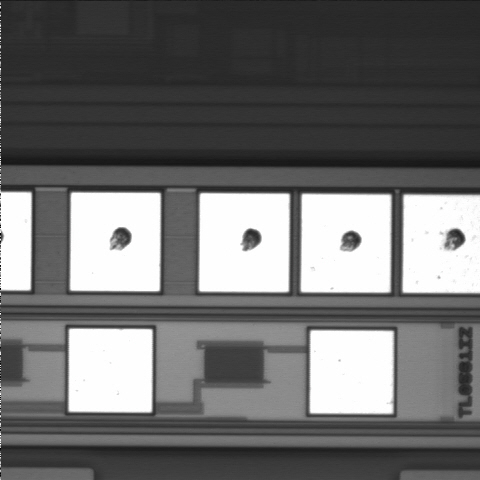pad: (199, 193, 289, 292), (70, 193, 160, 291), (301, 194, 391, 292), (310, 330, 393, 414), (69, 329, 152, 412)
